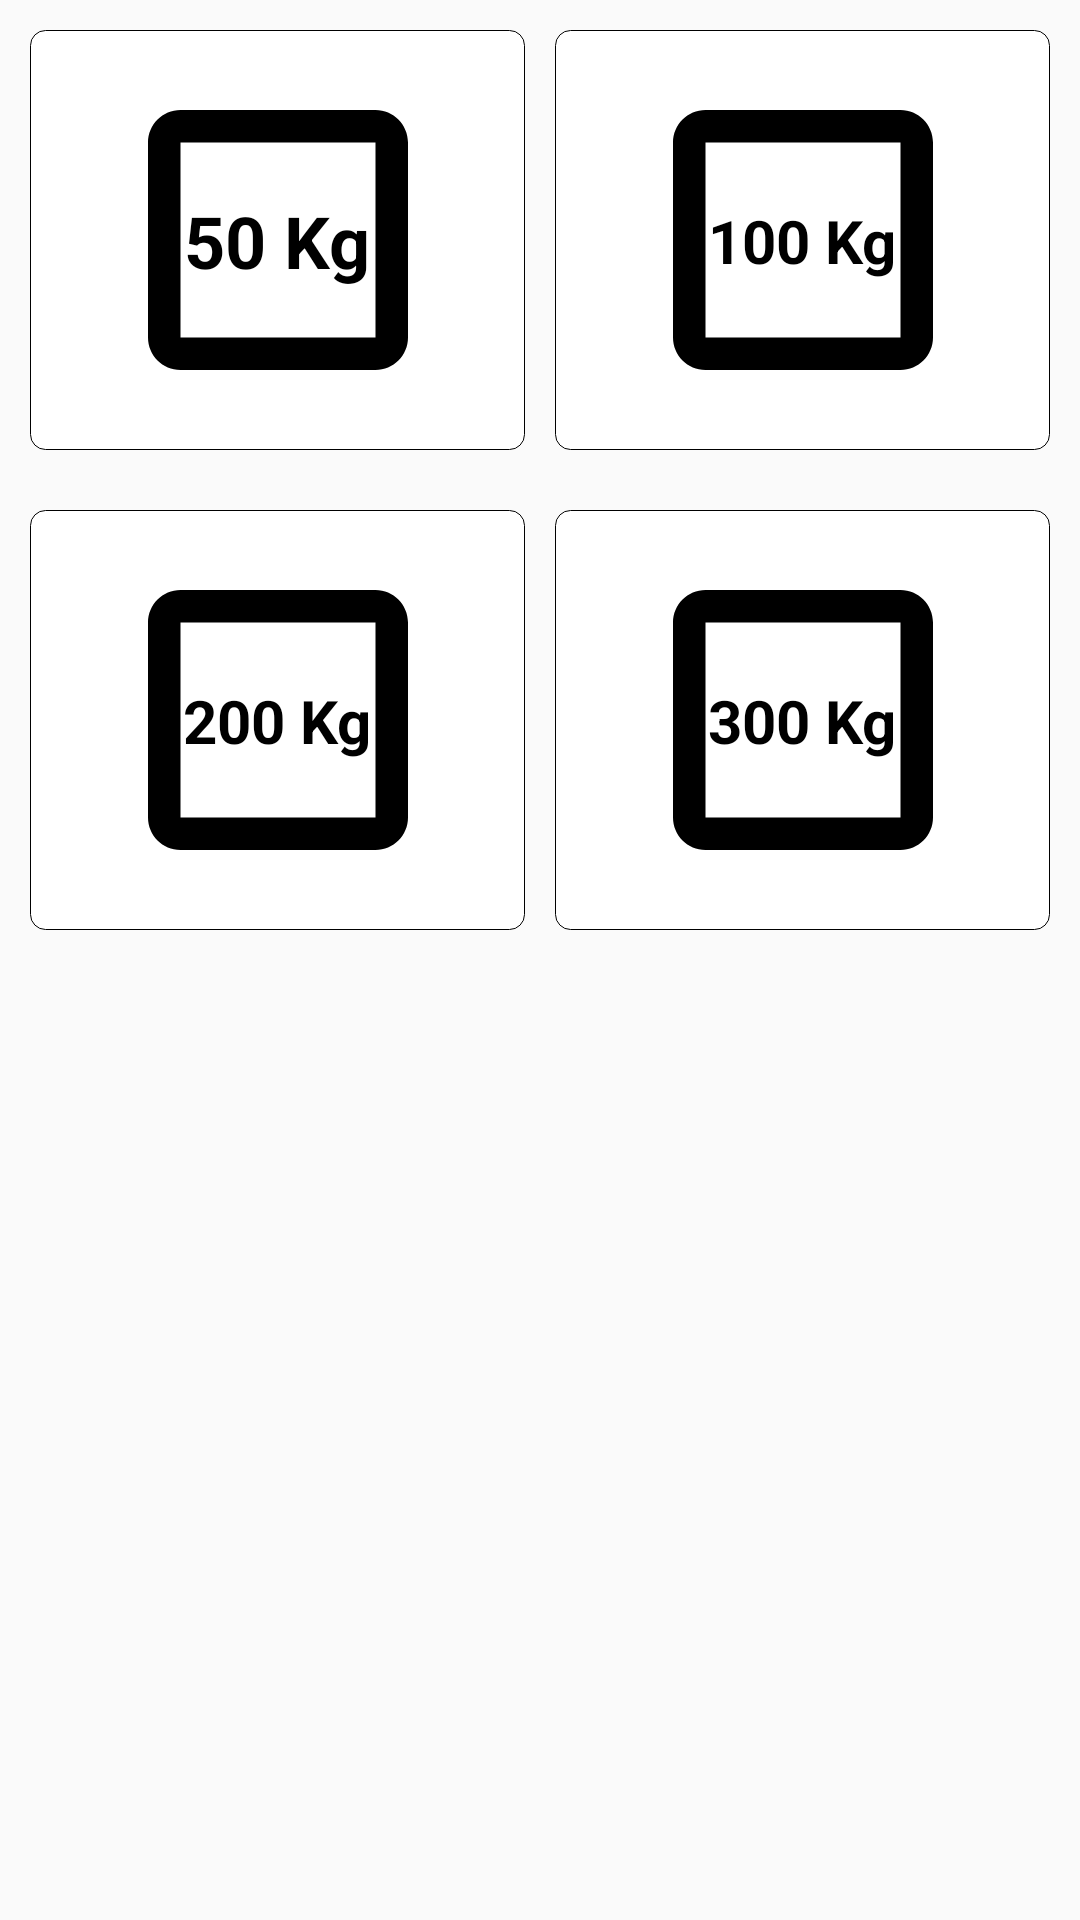

Point at icon controls on the screen. Image size 1080px×1920px, points as [x,y].
crop square: [278,240], [803,240], [278,720], [803,720]
